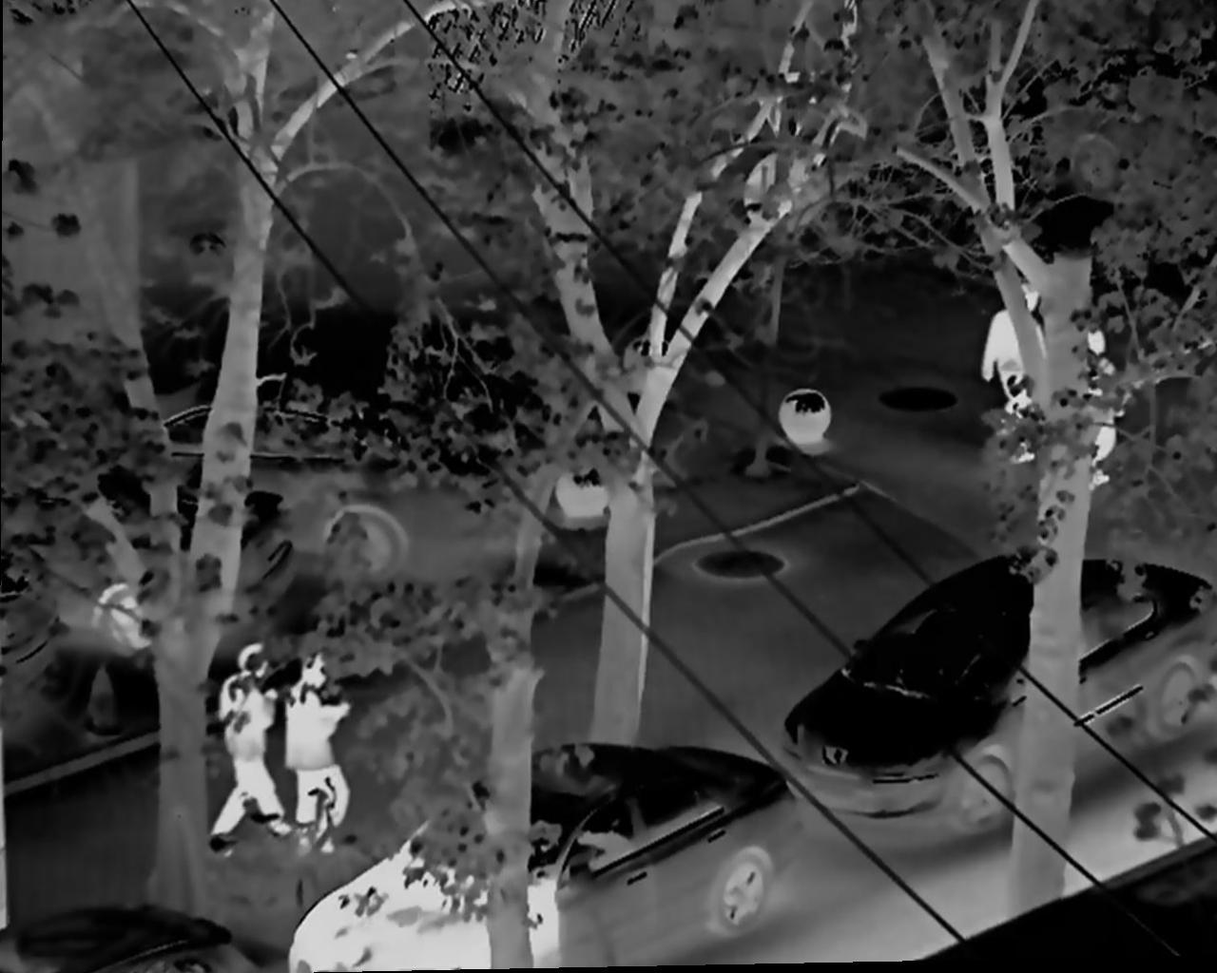person: (211, 643, 295, 860), (285, 652, 357, 849), (978, 277, 1042, 466), (1060, 311, 1116, 499)
